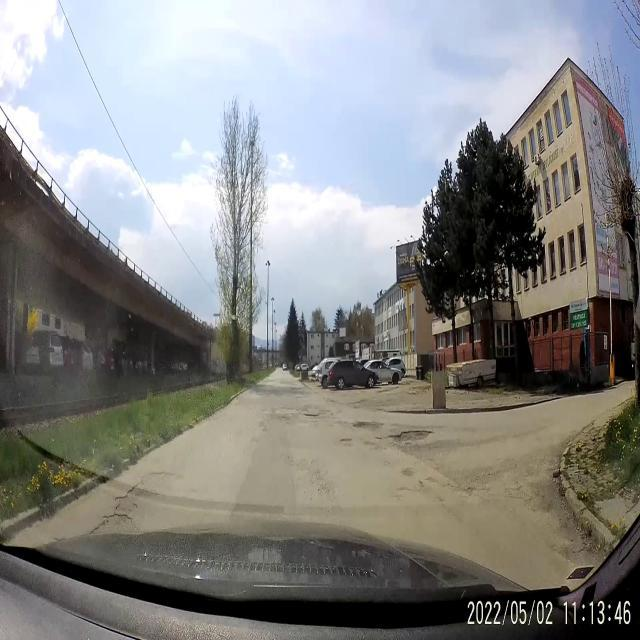Pothole: (91, 514, 136, 544), (388, 423, 436, 450), (115, 494, 150, 514), (138, 466, 178, 482), (352, 417, 387, 435), (126, 483, 162, 499), (340, 432, 353, 449), (304, 409, 320, 422)
